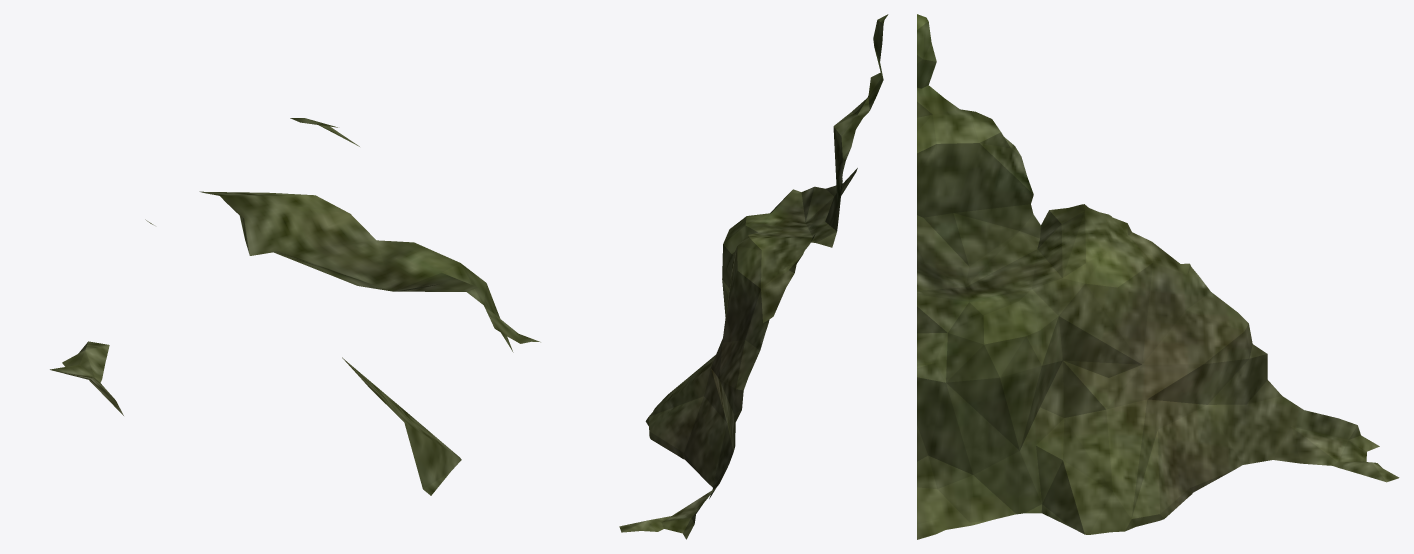
The picture shows the model from 3 angles, left to right: view 1: azimuth 30°, elevation 25°; view 2: azimuth 150°, elevation 25°; view 3: azimuth 270°, elevation 25°; orthographic projection. The views are drawn at different scales.
Bounding box in the file's own units: 0.7469 × 1.61 × 1.63.
Materials: 1 (1 with a texture image).
